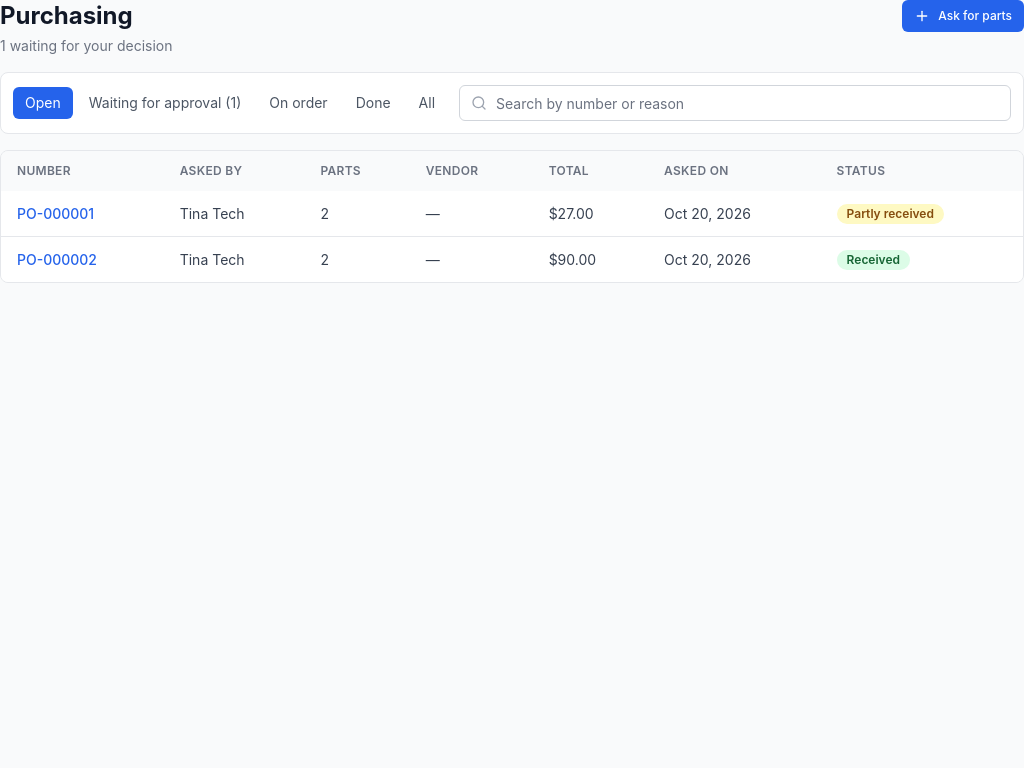
Test: PurchasingPage › asks only for the parts still to come when part of an order has already arrived
Click the button "PO-000001": (56, 214) top-left (17, 204), bottom-right (94, 224)
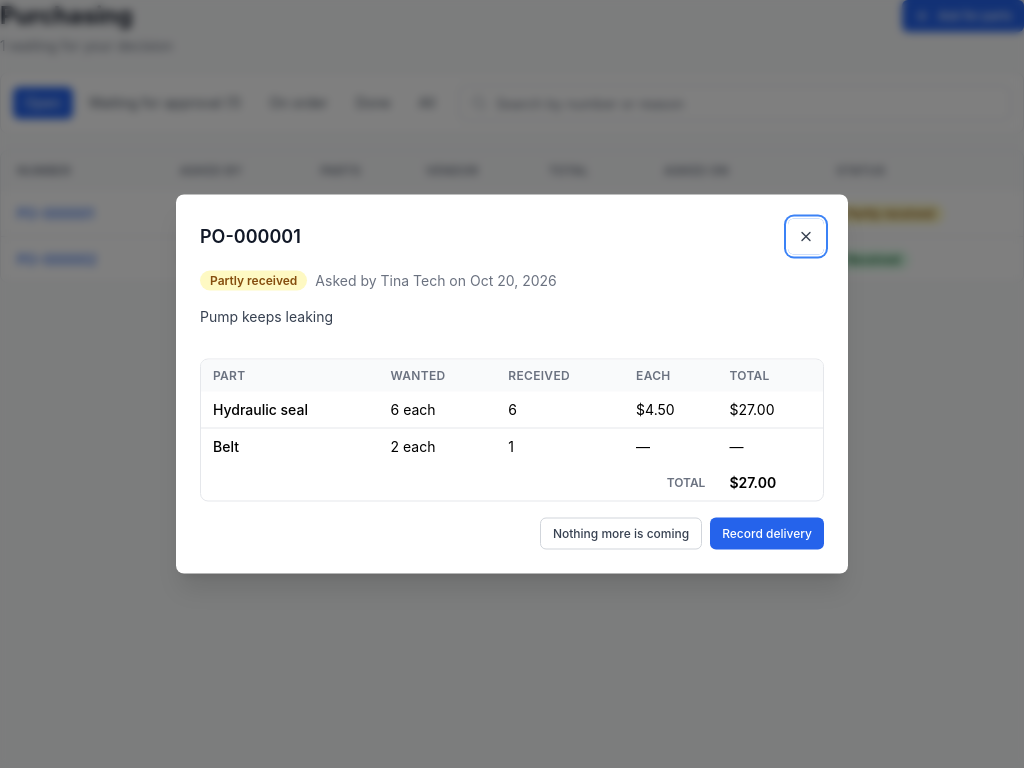
Click the button "Record delivery": (767, 534) top-left (710, 518), bottom-right (824, 550)
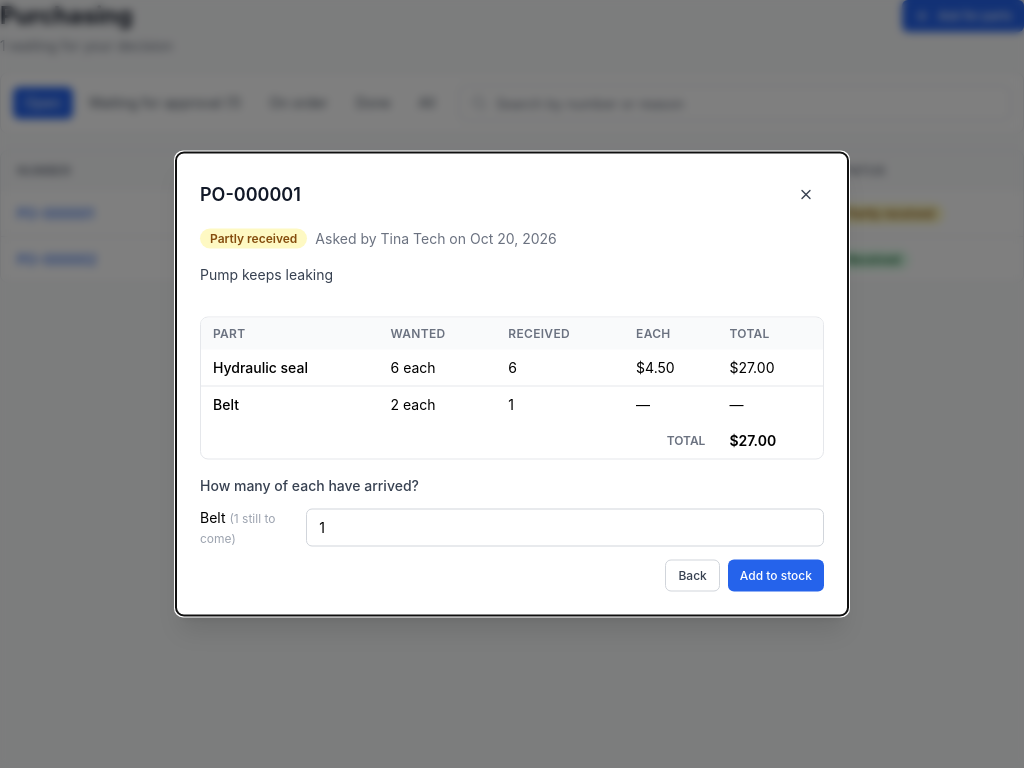
expect the number field named "Arrived: Belt" holds "1": met, box top-left (306, 508), bottom-right (824, 546)
